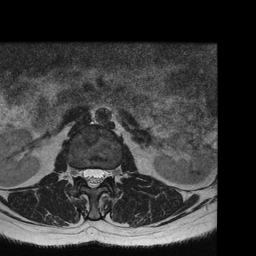CCS_normal: (89, 161, 96, 194)
LFS_normal: (105, 161, 113, 184)
LLS_normal: (96, 160, 104, 188)
RFS_normal: (73, 161, 81, 182)
RLS_normal: (81, 162, 89, 188)
